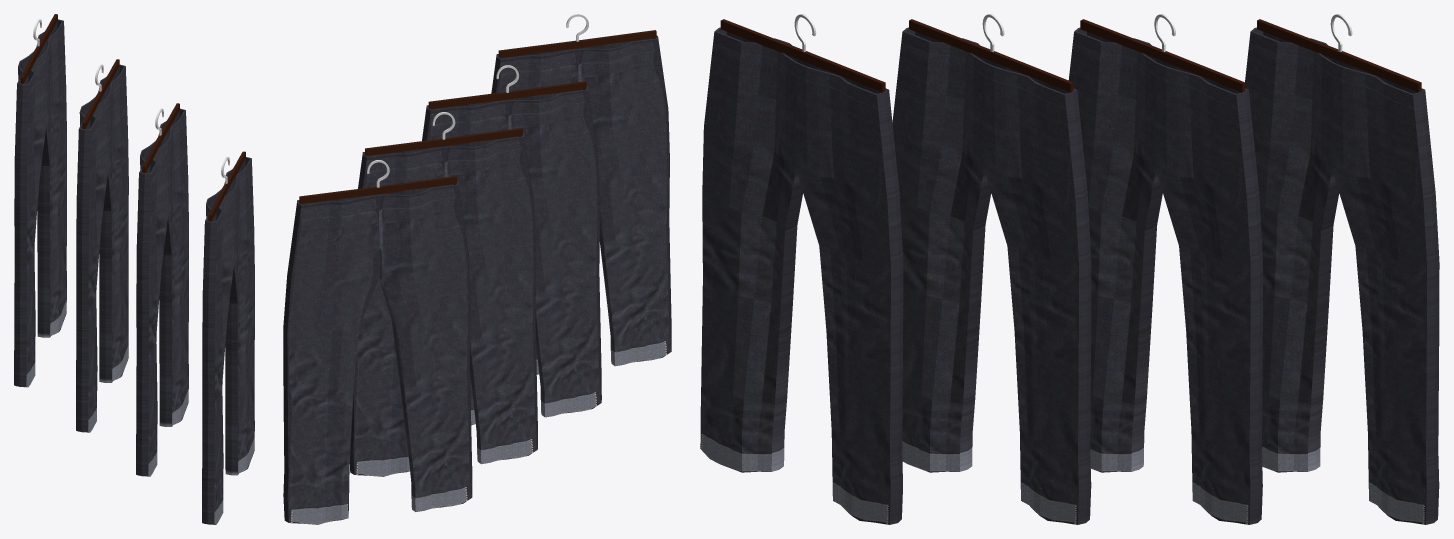
File: jack_o_2.glb
3 renders of one model, left to right at view 1: azimuth 30°, elevation 25°; view 2: azimuth 150°, elevation 25°; view 3: azimuth 270°, elevation 25°, orthographic. The views are drawn at different scales.
Visible parts, largest first — view 1: Plane.317; view 2: Plane.317; view 3: Plane.317.
Boxes of the visible parts, x1=… form: Plane.317: x1=14, y1=14, x2=254, y2=524; Plane.317: x1=283, y1=14, x2=671, y2=524; Plane.317: x1=700, y1=14, x2=1439, y2=524.
Bounding box in the file's own units: 0.17 × 0.4706 × 0.6608.
3 materials, 3 textured.
